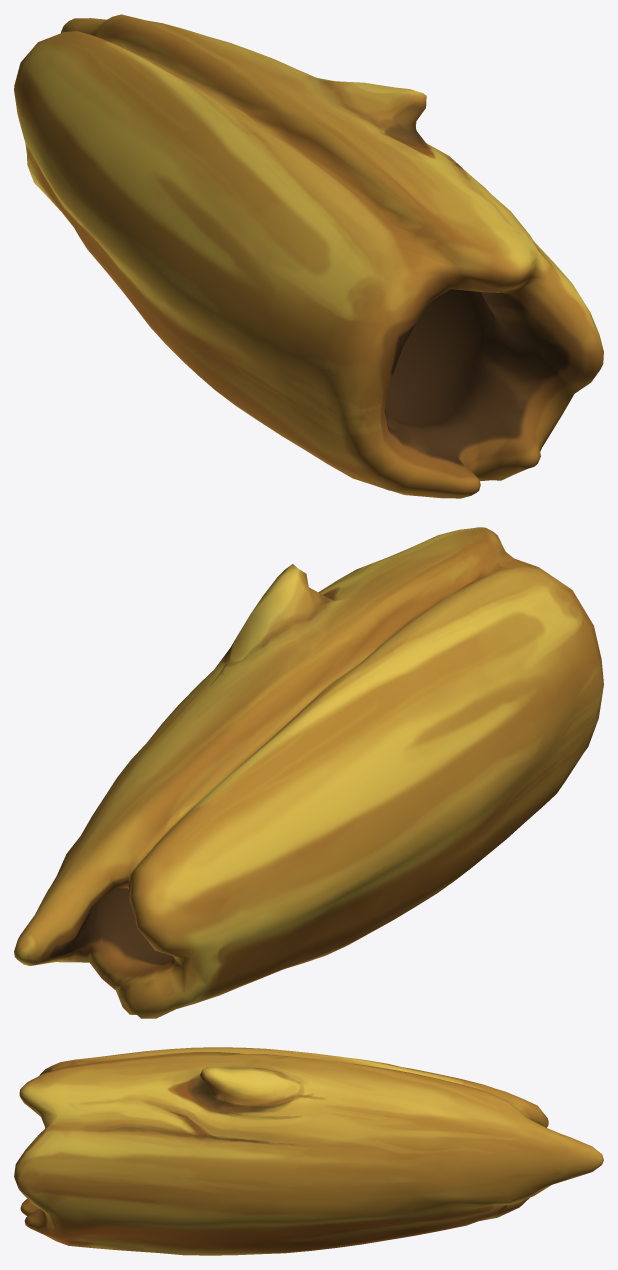
The model's file is Tronco.fbx.
The picture shows the model from 3 angles, top to bottom: view 1: azimuth 30°, elevation 25°; view 2: azimuth 150°, elevation 25°; view 3: azimuth 270°, elevation 25°; orthographic projection. The views are drawn at different scales.
Visible parts, largest first — view 1: Tronco1; view 2: Tronco1; view 3: Tronco1.
Part boxes in pixels (x1=…): Tronco1: x1=14, y1=14, x2=603, y2=498; Tronco1: x1=14, y1=527, x2=603, y2=1018; Tronco1: x1=14, y1=1047, x2=603, y2=1255.
Size of the model in its own units: 61.76 by 65.67 by 174.
1 material, 1 textured.
